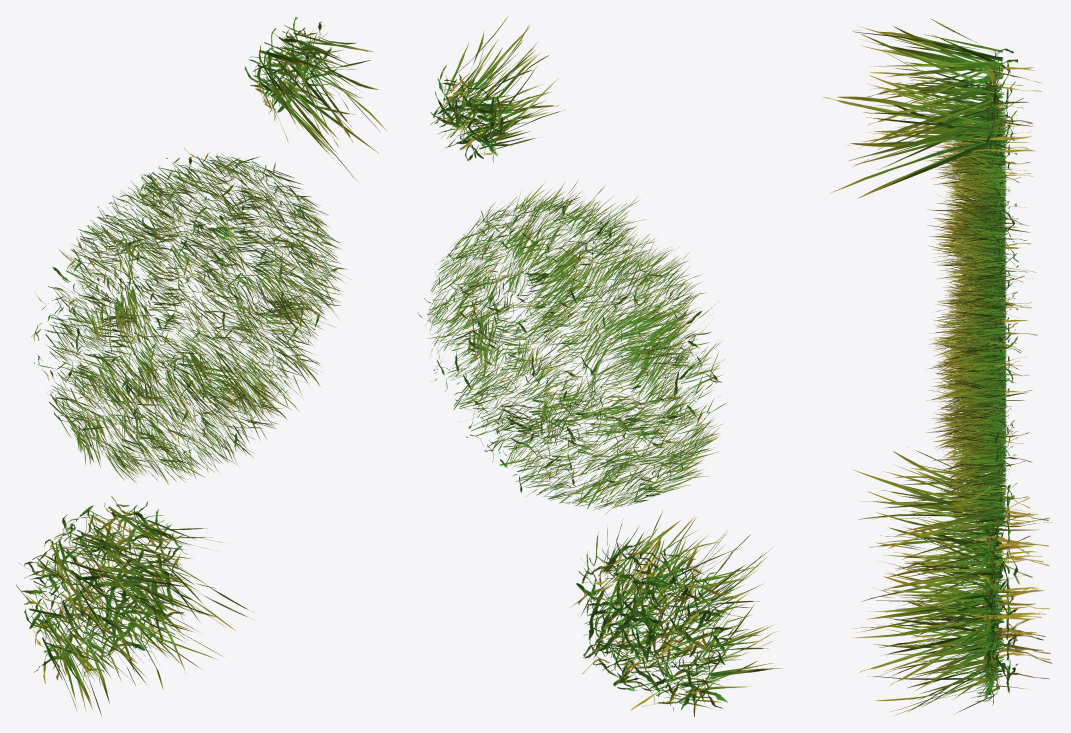
File: circulos.glb
The picture shows the model from 3 angles, left to right: view 1: azimuth 30°, elevation 25°; view 2: azimuth 150°, elevation 25°; view 3: azimuth 270°, elevation 25°; orthographic projection. The views are drawn at different scales.
Parts seen in each view (by area): view 1: GrassEmitterCircleMesh.004|BR_MainGrass_Diff.071|Dupli|117_B (×4); view 2: GrassEmitterCircleMesh.004|BR_MainGrass_Diff.071|Dupli|117_B (×4); view 3: GrassEmitterCircleMesh.004|BR_MainGrass_Diff.071|Dupli|117_B (×4).
Boxes of the visible parts, box(x1,y1,x2,y2) form: GrassEmitterCircleMesh.004|BR_MainGrass_Diff.071|Dupli|117_B (×4): box(16, 17, 386, 716); GrassEmitterCircleMesh.004|BR_MainGrass_Diff.071|Dupli|117_B (×4): box(418, 16, 783, 716); GrassEmitterCircleMesh.004|BR_MainGrass_Diff.071|Dupli|117_B (×4): box(823, 19, 1051, 715).
Size of the model in its own units: 3.25 by 5.92 by 1.6.
Materials: 1 (1 with a texture image).
